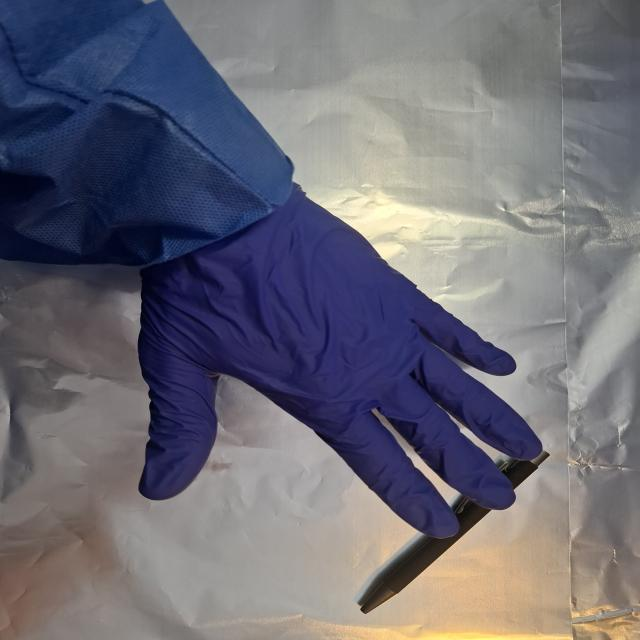glove_on: (132, 181, 547, 540)
